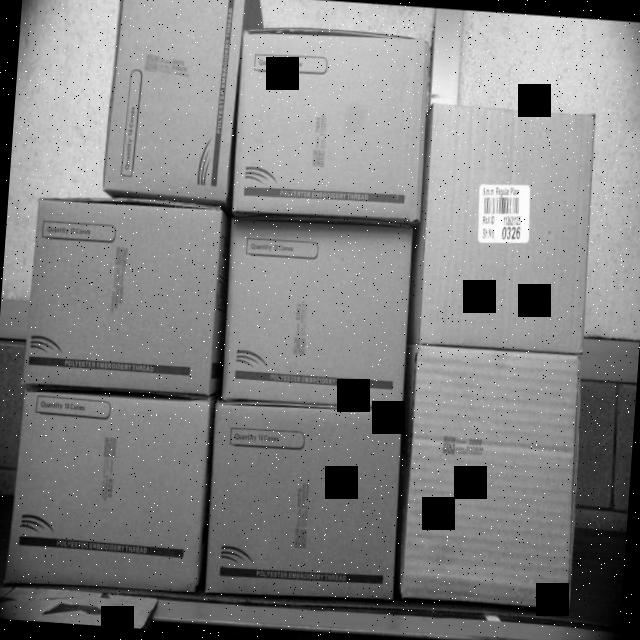box: (398, 347, 586, 606), (415, 102, 596, 350), (230, 20, 434, 225), (10, 393, 210, 598), (204, 402, 406, 603), (24, 200, 224, 394), (218, 216, 414, 407), (99, 0, 240, 203)
